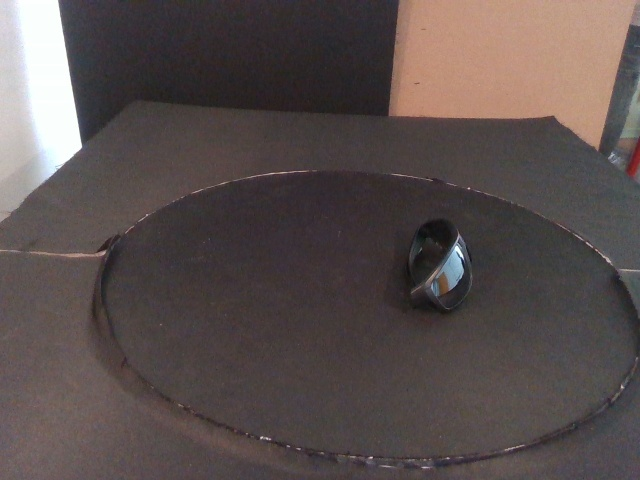glasses: (406, 215, 475, 314)
